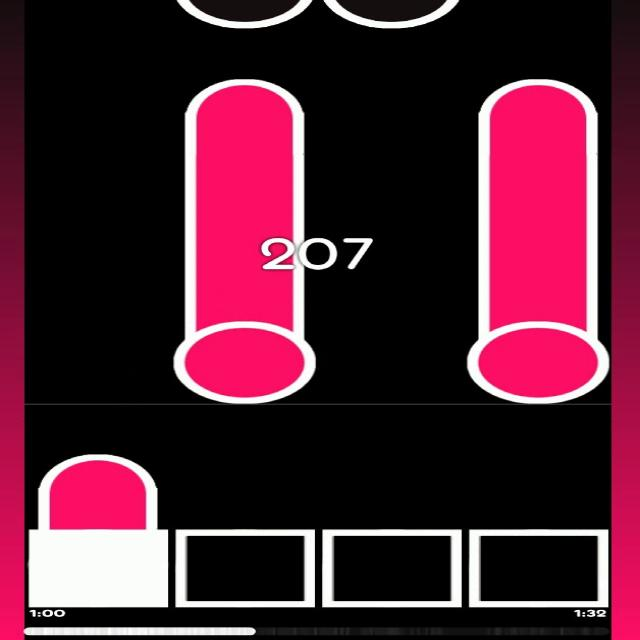end_hold: (181, 68, 311, 128), (479, 67, 601, 123), (38, 446, 161, 498)
note: (316, 0, 461, 33), (171, 0, 313, 31)
start_hold: (466, 290, 612, 404), (171, 299, 321, 406)
